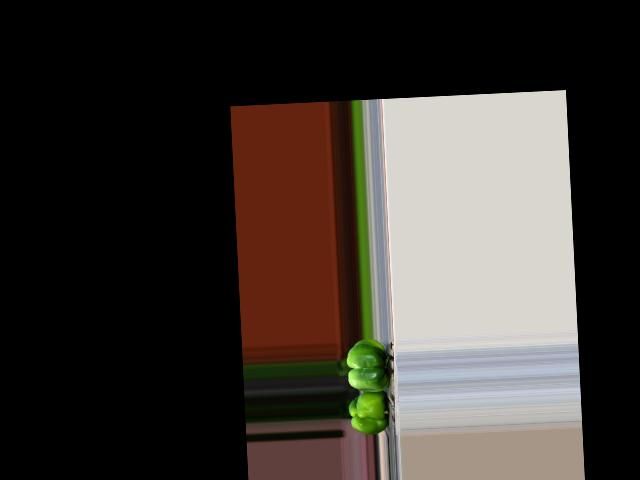bell_pepper: (346, 389, 392, 437)
